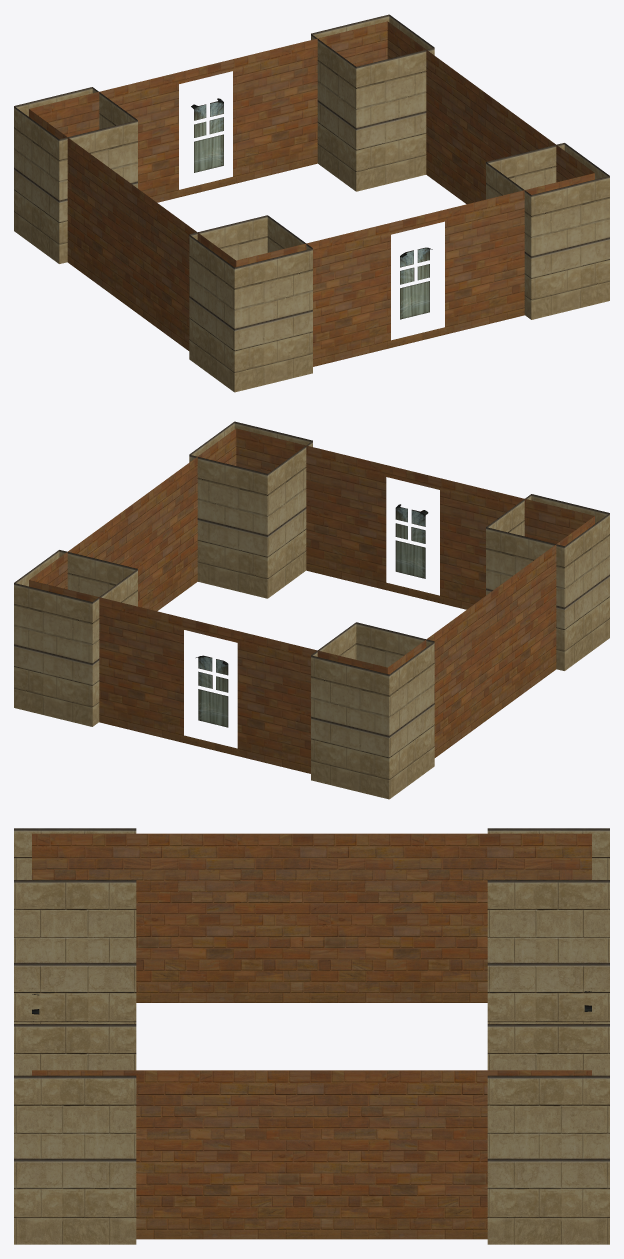
The model's file is tower_10x10_first.fbx.
The picture shows the model from 3 angles, top to bottom: view 1: azimuth 30°, elevation 25°; view 2: azimuth 150°, elevation 25°; view 3: azimuth 270°, elevation 25°; orthographic projection. The views are drawn at different scales.
Parts seen in each view (by area): view 1: tower_10x10_first; view 2: tower_10x10_first; view 3: tower_10x10_first.
Part boxes in pixels (x1,y1,x2,y2): tower_10x10_first: (14,14,609,392); tower_10x10_first: (14,421,609,799); tower_10x10_first: (14,828,609,1244).
Bounding box in the file's own units: 942 × 300 × 958.
